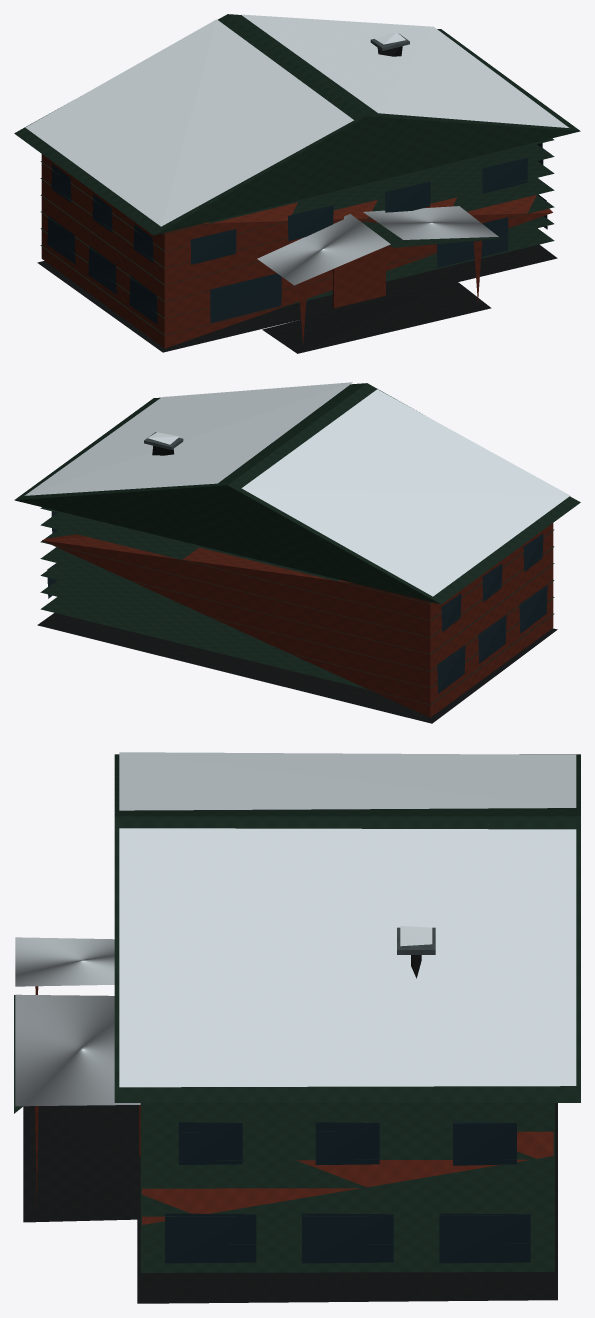
The model's file is ski-lodge-lod.glb.
3 views of the same model, one above another, from view 1: azimuth 30°, elevation 25°; view 2: azimuth 150°, elevation 25°; view 3: azimuth 270°, elevation 25° (orthographic). The views are drawn at different scales.
Parts seen in each view (by area): view 1: ski-lodge-lodge-hall_3, ski-lodge-lodge-hall_2, ski-lodge-lodge-hall_1, ski-lodge-lodge-hall_0, ski-lodge-lodge-hall_5, ski-lodge-lodge-hall_4; view 2: ski-lodge-lodge-hall_3, ski-lodge-lodge-hall_2, ski-lodge-lodge-hall_1, ski-lodge-lodge-hall_0, ski-lodge-lodge-hall_5; view 3: ski-lodge-lodge-hall_3, ski-lodge-lodge-hall_2, ski-lodge-lodge-hall_0, ski-lodge-lodge-hall_5, ski-lodge-lodge-hall_1.
Part boxes in pixels (left/top/right/bottom): ski-lodge-lodge-hall_3: left=25, top=14, right=568, bottom=285; ski-lodge-lodge-hall_2: left=14, top=14, right=580, bottom=335; ski-lodge-lodge-hall_1: left=41, top=154, right=552, bottom=348; ski-lodge-lodge-hall_0: left=37, top=46, right=557, bottom=353; ski-lodge-lodge-hall_5: left=47, top=143, right=547, bottom=324; ski-lodge-lodge-hall_4: left=332, top=246, right=385, bottom=308; ski-lodge-lodge-hall_3: left=24, top=382, right=570, bottom=596; ski-lodge-lodge-hall_2: left=14, top=383, right=580, bottom=704; ski-lodge-lodge-hall_1: left=42, top=523, right=553, bottom=717; ski-lodge-lodge-hall_0: left=37, top=446, right=557, bottom=723; ski-lodge-lodge-hall_5: left=47, top=511, right=547, bottom=693; ski-lodge-lodge-hall_3: left=15, top=752, right=576, bottom=1106; ski-lodge-lodge-hall_2: left=14, top=754, right=580, bottom=1272; ski-lodge-lodge-hall_0: left=23, top=955, right=557, bottom=1303; ski-lodge-lodge-hall_5: left=140, top=1104, right=530, bottom=1263; ski-lodge-lodge-hall_1: left=35, top=986, right=553, bottom=1224.
Bounding box in the file's own units: 16 × 7 × 11.
6 materials, 6 textured.
